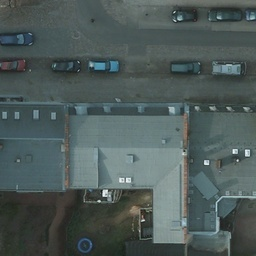car: (0, 32, 36, 48), (86, 59, 122, 75), (208, 7, 241, 23), (170, 60, 202, 76), (172, 7, 197, 22), (51, 60, 80, 72)
van: (212, 60, 244, 76)
